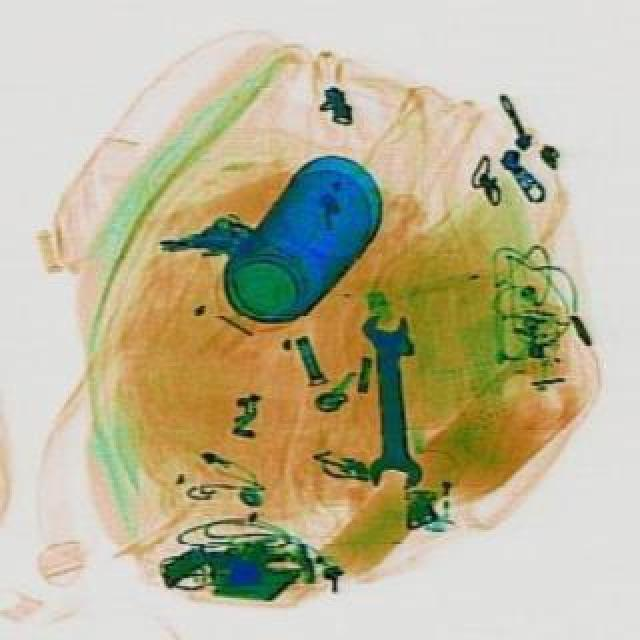scissors: (358, 312, 418, 488)
